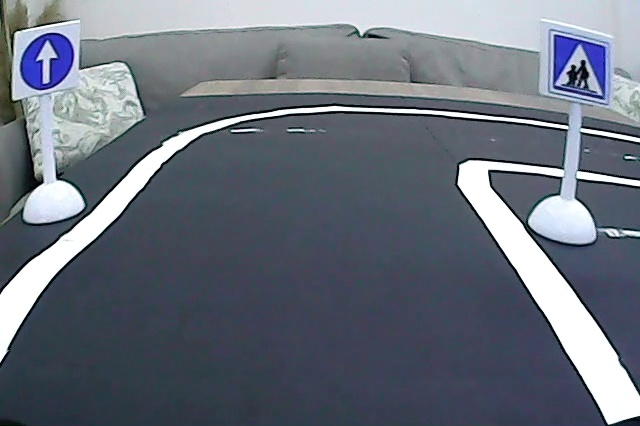school crossing: (545, 28, 609, 103)
